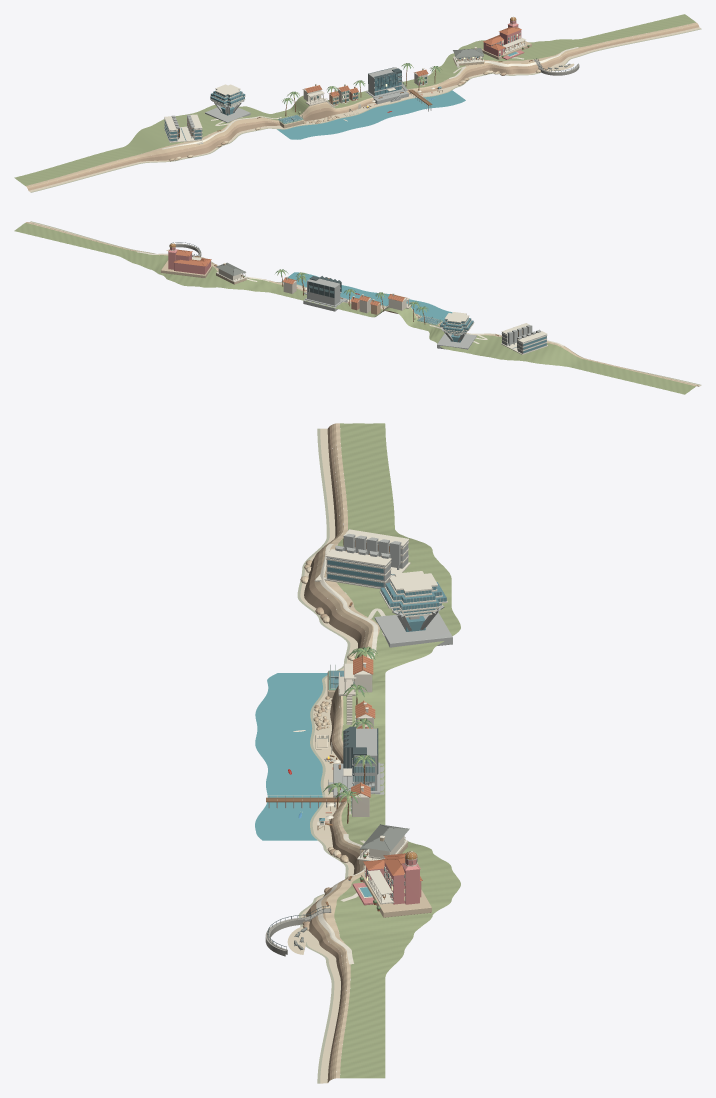
The model's file is la-jolla.glb.
The picture shows the model from 3 angles, top to bottom: view 1: azimuth 30°, elevation 25°; view 2: azimuth 150°, elevation 25°; view 3: azimuth 270°, elevation 25°; orthographic projection. The views are drawn at different scales.
Visible parts, largest first — view 1: Connected sandstone bluffs and park, Pacific, Sheltered beaches, Wet tide edge, DIB · Board formed concrete, CoastalWalk · Limestone trim, Salk · Limestone trim.001, Geisel · Board formed concrete.001, LaValencia · La Valencia rose plaster, Geisel · Limestone trim.001, Geisel · Pacific blue glazing.001, DIB · Pacific blue glazing (+4 smaller); view 2: Connected sandstone bluffs and park, Pacific, DIB · Board formed concrete, Salk · Board formed concrete.001, LaValencia · La Valencia rose plaster, Geisel · Board formed concrete.001, Salk · Limestone trim.001, Geisel · Limestone trim.001, Geisel · Pacific blue glazing.001, DIB · Charcoal anodized fins, Wet tide edge, LaValencia · Terracotta (+1 smaller); view 3: Connected sandstone bluffs and park, Pacific, Sheltered beaches, Geisel · Board formed concrete.001, Wet tide edge, Salk · Board formed concrete.001, DIB · Board formed concrete, Salk · Limestone trim.001, LaValencia · La Valencia rose plaster, Geisel · Limestone trim.001, Geisel · Pacific blue glazing.001, CoastalWalk · Limestone trim.
Part boxes in pixels (bbox=[...]): Connected sandstone bluffs and park: bbox=[14, 14, 699, 190]; Pacific: bbox=[277, 90, 465, 139]; Sheltered beaches: bbox=[28, 27, 700, 192]; Wet tide edge: bbox=[31, 28, 701, 192]; DIB · Board formed concrete: bbox=[365, 67, 408, 104]; CoastalWalk · Limestone trim: bbox=[162, 47, 578, 149]; Salk · Limestone trim.001: bbox=[164, 114, 203, 144]; Geisel · Board formed concrete.001: bbox=[205, 92, 250, 122]; LaValencia · La Valencia rose plaster: bbox=[483, 20, 524, 59]; Geisel · Limestone trim.001: bbox=[210, 84, 245, 117]; Geisel · Pacific blue glazing.001: bbox=[210, 90, 244, 115]; DIB · Pacific blue glazing: bbox=[374, 74, 401, 95]; Connected sandstone bluffs and park: bbox=[14, 222, 698, 394]; Pacific: bbox=[281, 272, 452, 320]; DIB · Board formed concrete: bbox=[303, 278, 347, 311]; Salk · Board formed concrete.001: bbox=[502, 325, 546, 353]; LaValencia · La Valencia rose plaster: bbox=[168, 247, 210, 274]; Geisel · Board formed concrete.001: bbox=[437, 317, 476, 349]; Salk · Limestone trim.001: bbox=[501, 323, 548, 354]; Geisel · Limestone trim.001: bbox=[439, 312, 474, 335]; Geisel · Pacific blue glazing.001: bbox=[440, 318, 473, 342]; DIB · Charcoal anodized fins: bbox=[306, 276, 341, 297]; Wet tide edge: bbox=[30, 221, 701, 385]; LaValencia · Terracotta: bbox=[173, 249, 211, 266]; Connected sandstone bluffs and park: bbox=[304, 423, 460, 1082]; Pacific: bbox=[255, 673, 327, 840]; Sheltered beaches: bbox=[300, 428, 357, 1083]; Geisel · Board formed concrete.001: bbox=[374, 583, 452, 647]; Wet tide edge: bbox=[297, 428, 350, 1083]; Salk · Board formed concrete.001: bbox=[326, 533, 408, 587]; DIB · Board formed concrete: bbox=[328, 728, 384, 797]; Salk · Limestone trim.001: bbox=[315, 529, 410, 589]; LaValencia · La Valencia rose plaster: bbox=[352, 859, 421, 905]; Geisel · Limestone trim.001: bbox=[379, 571, 447, 636]; Geisel · Pacific blue glazing.001: bbox=[380, 582, 446, 631]; CoastalWalk · Limestone trim: bbox=[316, 543, 385, 964].
Size of the model in its own units: 164 by 9.11 by 21.8.
